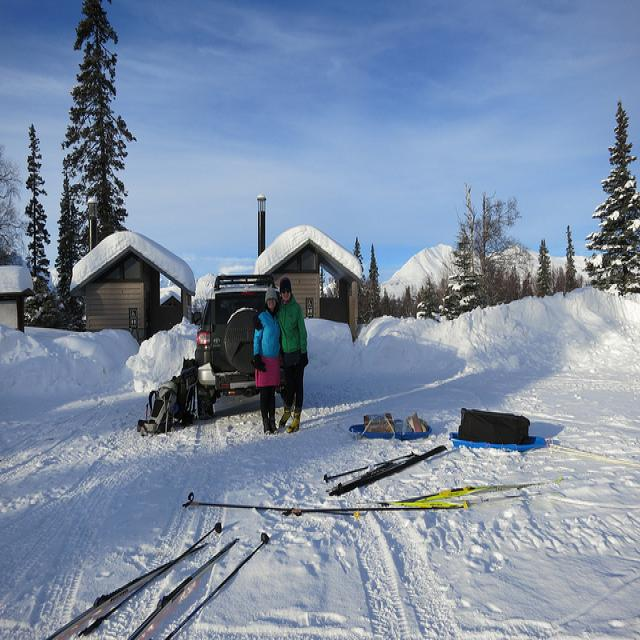Vehicle: (194, 276, 278, 420)
